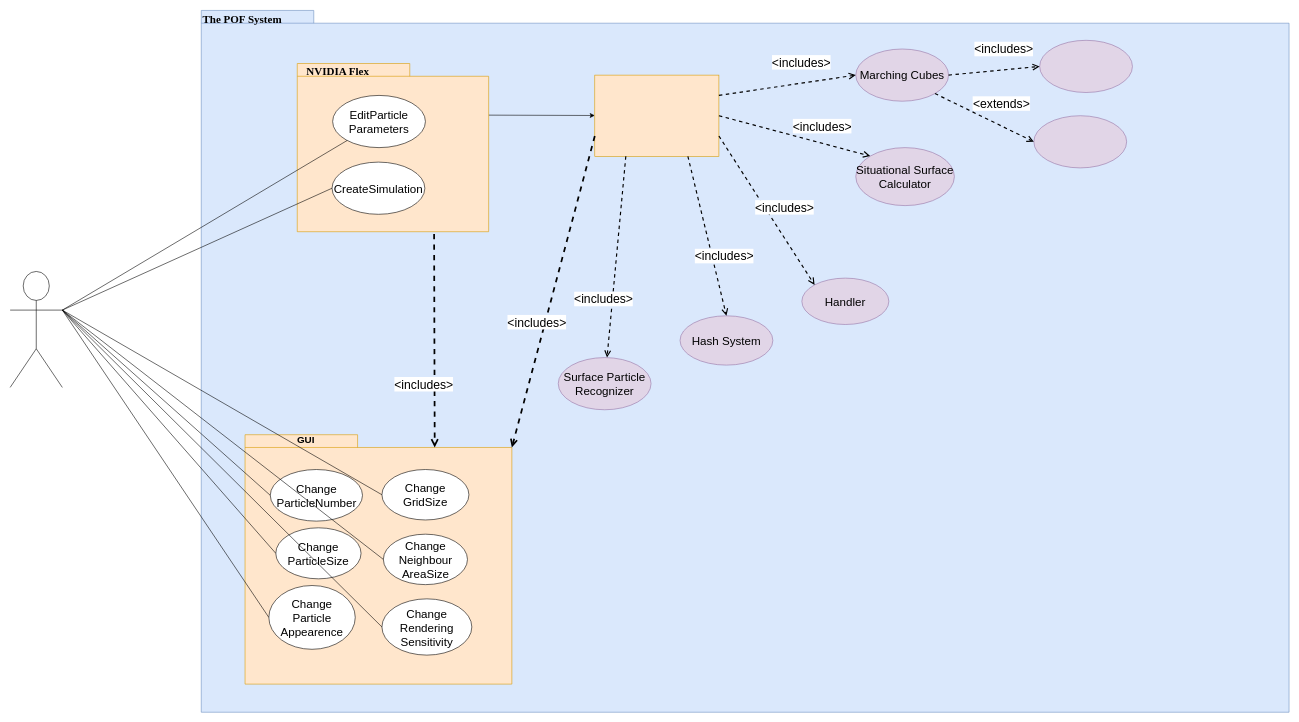
The diagram is 1299 pixels wide and 722 high, and some of its shapes have lost their labels. Here are the shapes that lost their labels. From the top down, the centre of each, then its label:
At pixel 1085 66: "Triangulation".
At pixel 656 115: "Particle Surface Reconstructor".
At pixel 1080 141: "IMarching".
At pixel 36 329: "User".
